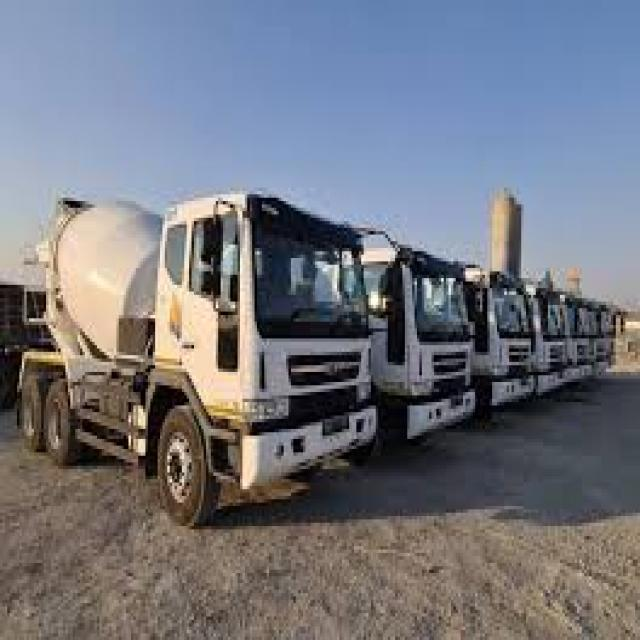Mixer Truck: (12, 181, 377, 534), (311, 248, 478, 467), (428, 258, 537, 433), (518, 283, 575, 417), (562, 292, 592, 398), (587, 301, 610, 385), (602, 307, 620, 371)
